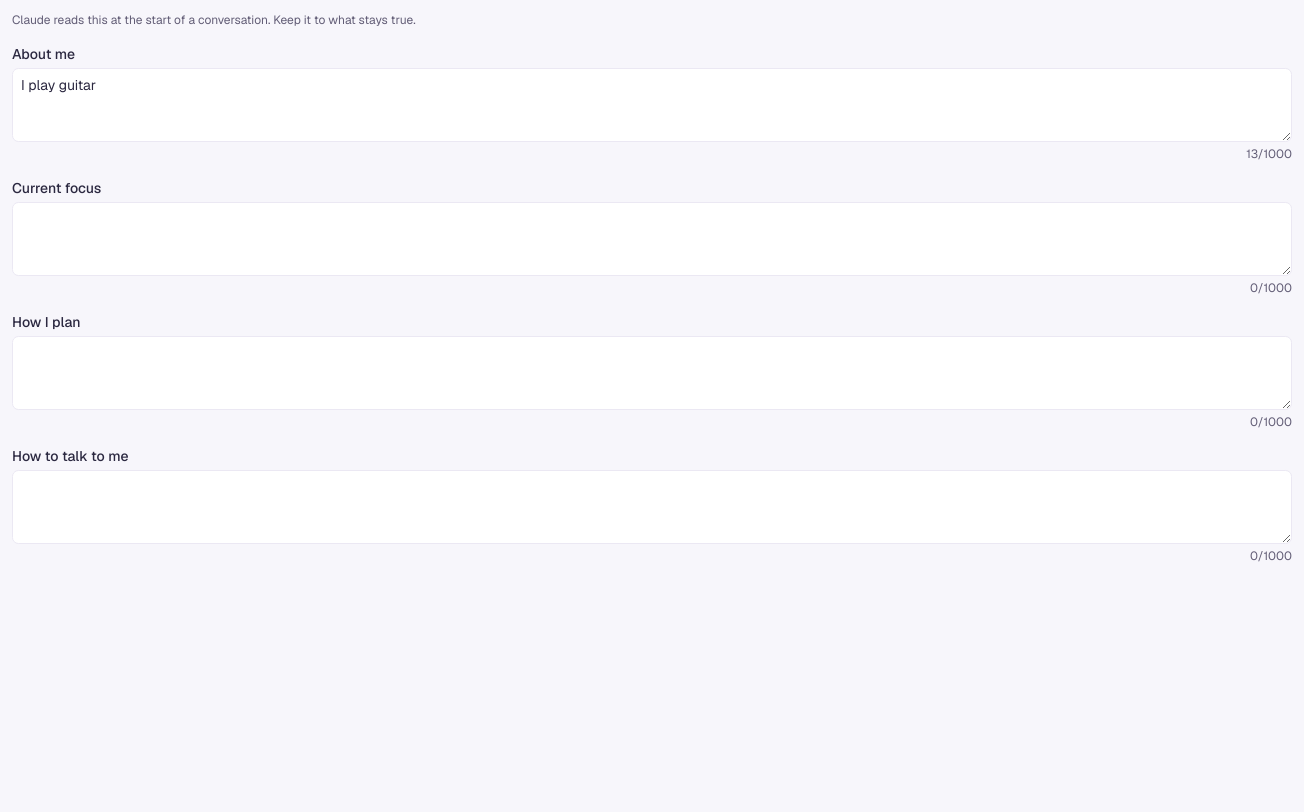
Test: shows the message when saving is refused
Type "x" into the text box labelled "Current focus" at (652,239), box [12, 202, 1292, 276]
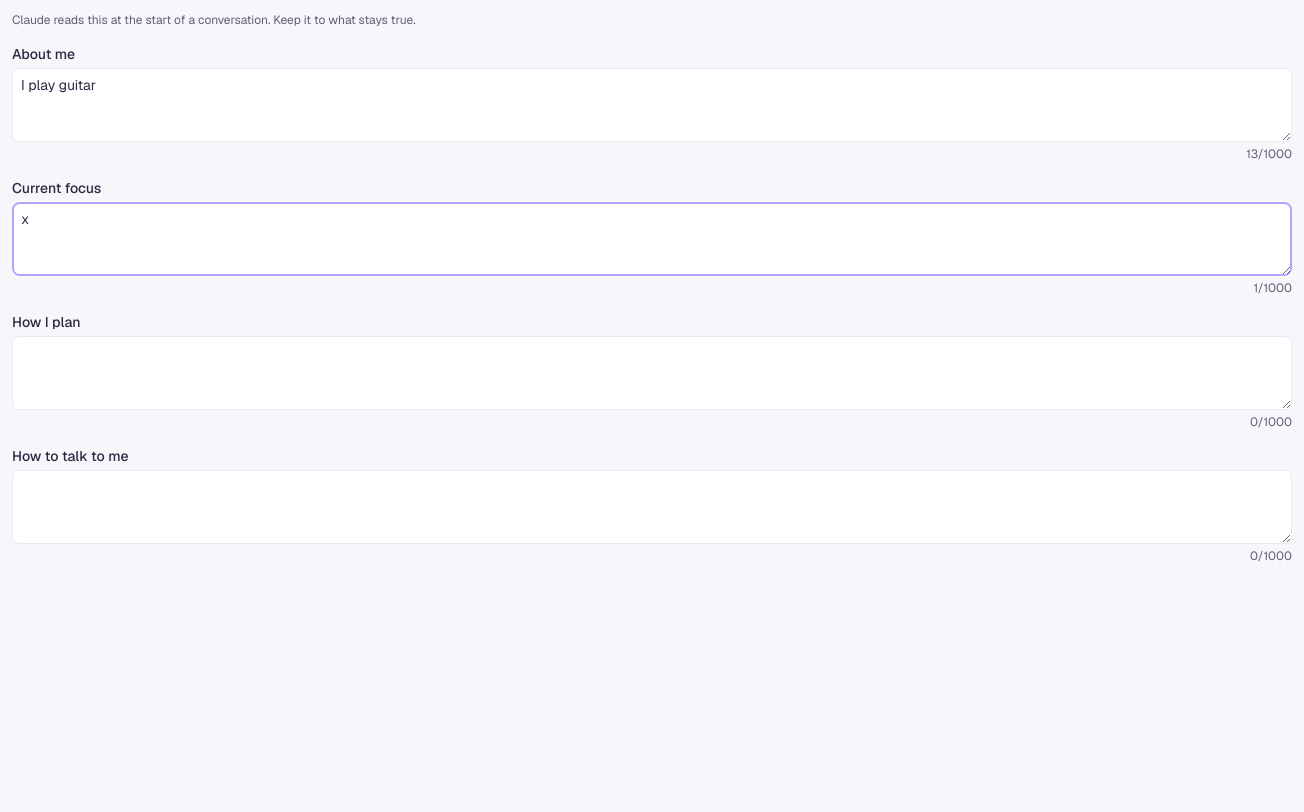
Press Tab
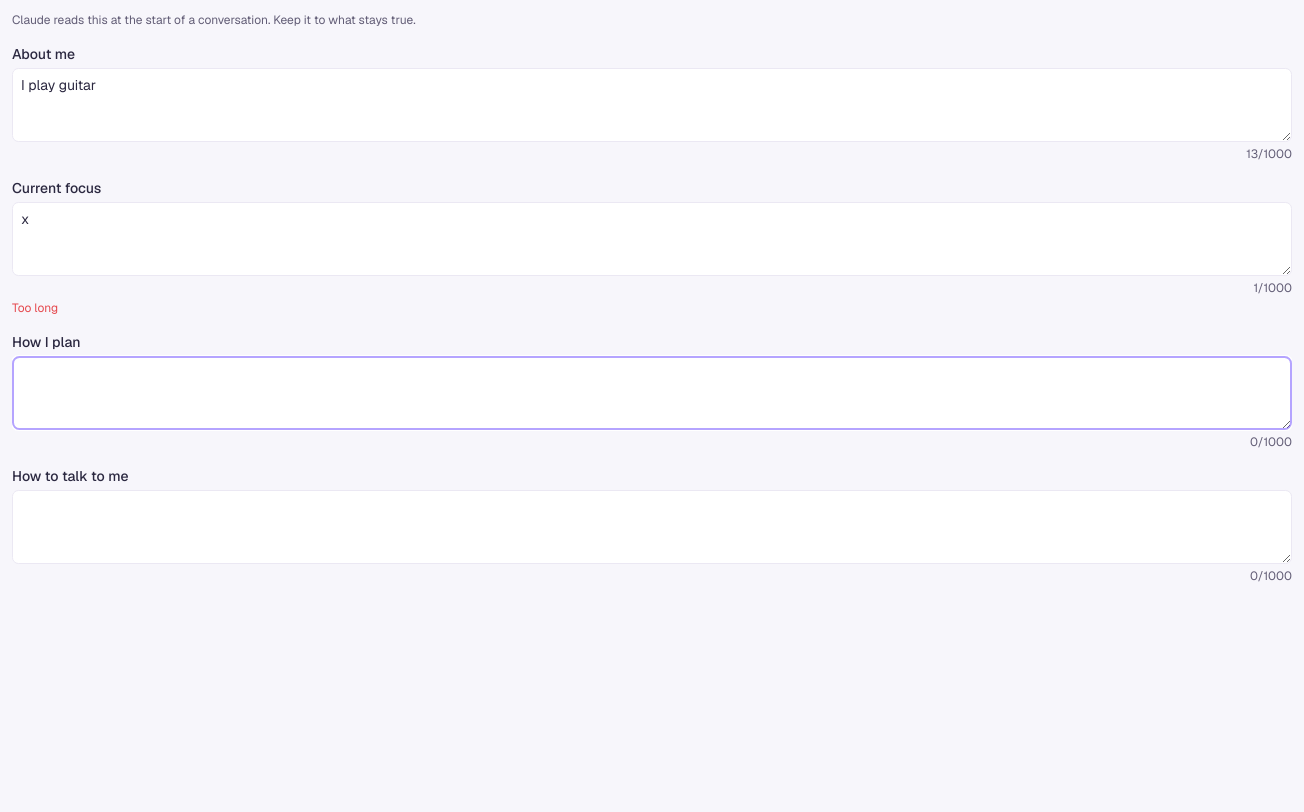
Result: the text "Too long" is shown at [12, 300, 58, 316]
